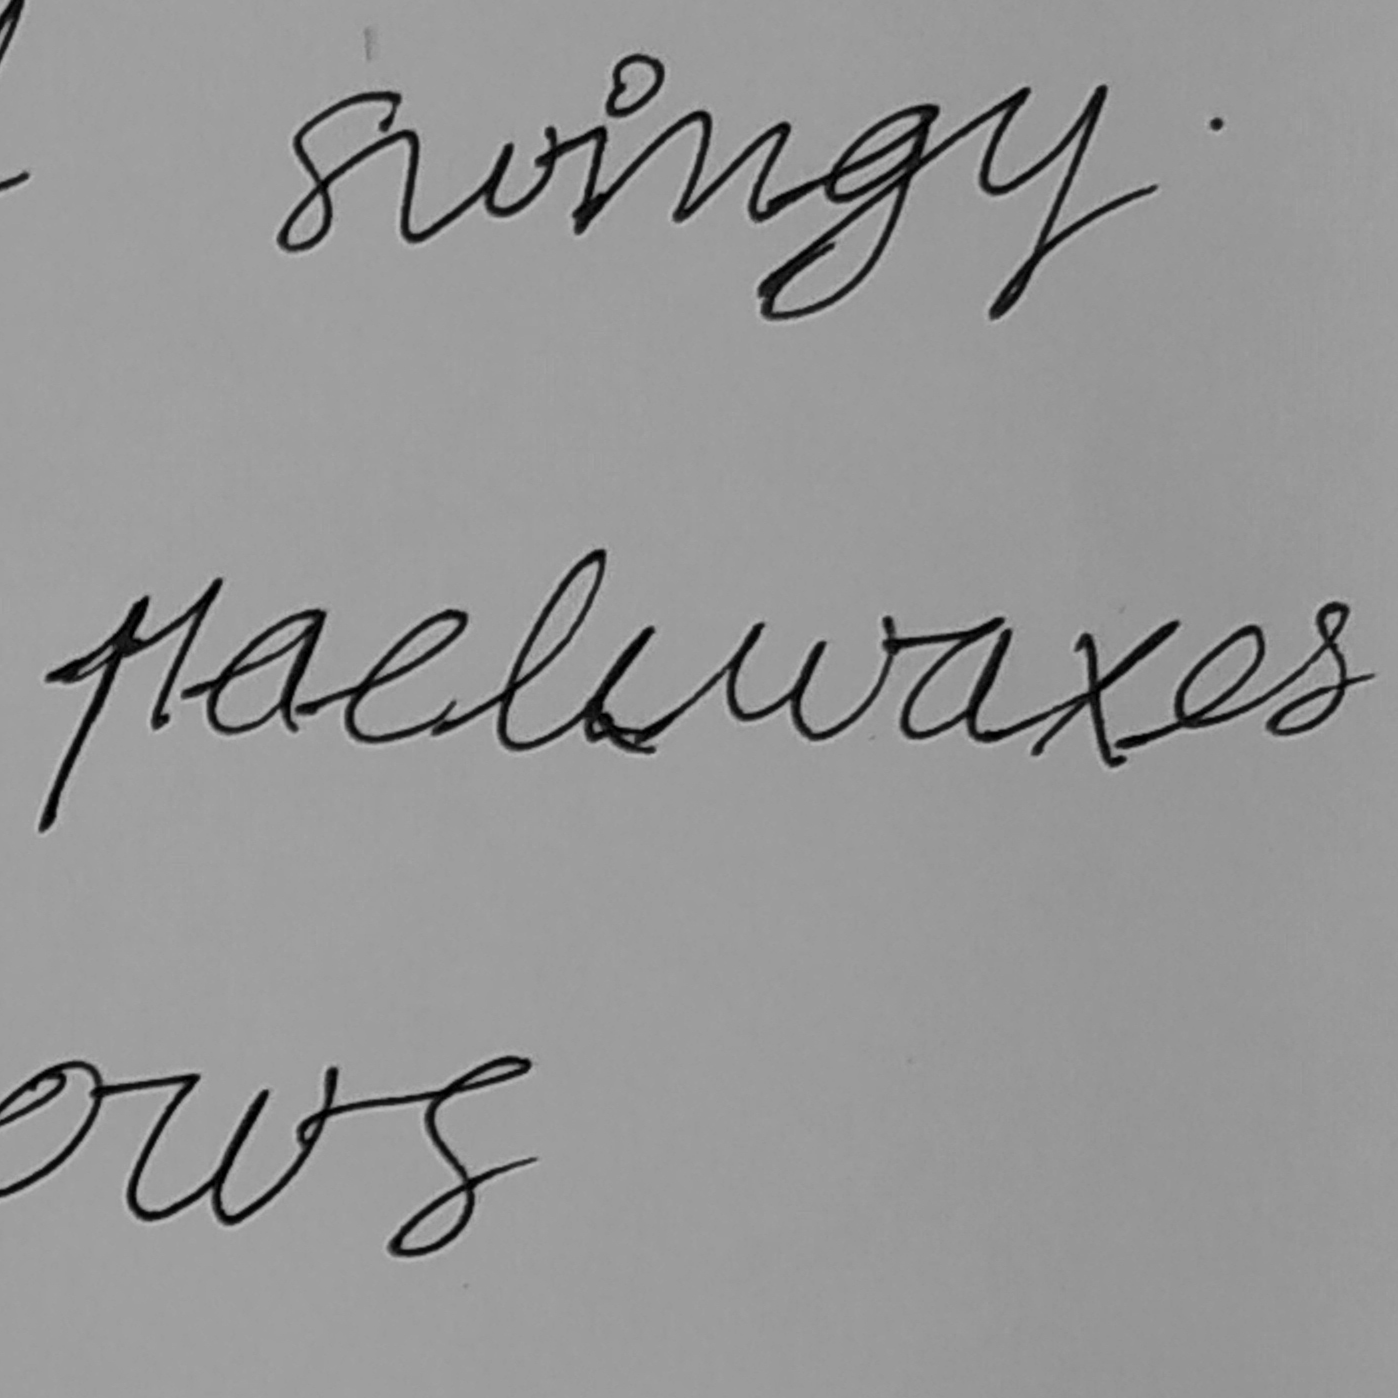a: (202, 606, 329, 737), (897, 613, 1016, 746)
c: (341, 606, 472, 748)
e: (1170, 620, 1274, 732)
k: (492, 545, 659, 757)
p: (32, 572, 227, 836)
s: (1262, 597, 1358, 741)
w: (722, 609, 901, 744)
x: (1024, 615, 1184, 769)
